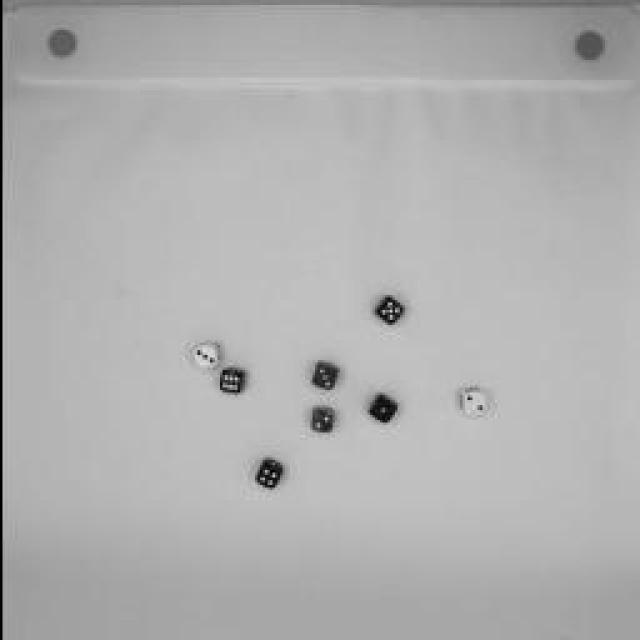dice_1: (364, 391, 398, 429)
dice_2: (452, 385, 488, 420), (306, 405, 336, 435)
dice_3: (308, 360, 340, 395), (191, 338, 221, 372)
dice_4: (252, 458, 286, 490)
dice_5: (372, 298, 406, 330)
dice_6: (214, 365, 248, 395)
